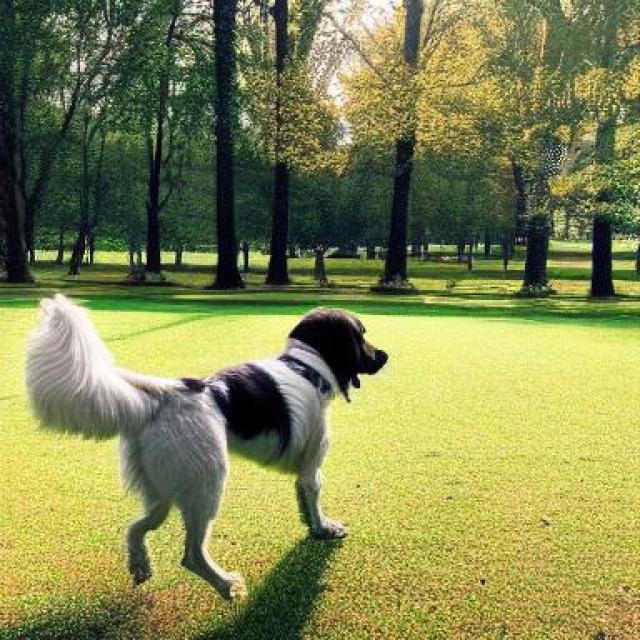Dog: (25, 293, 388, 600)
